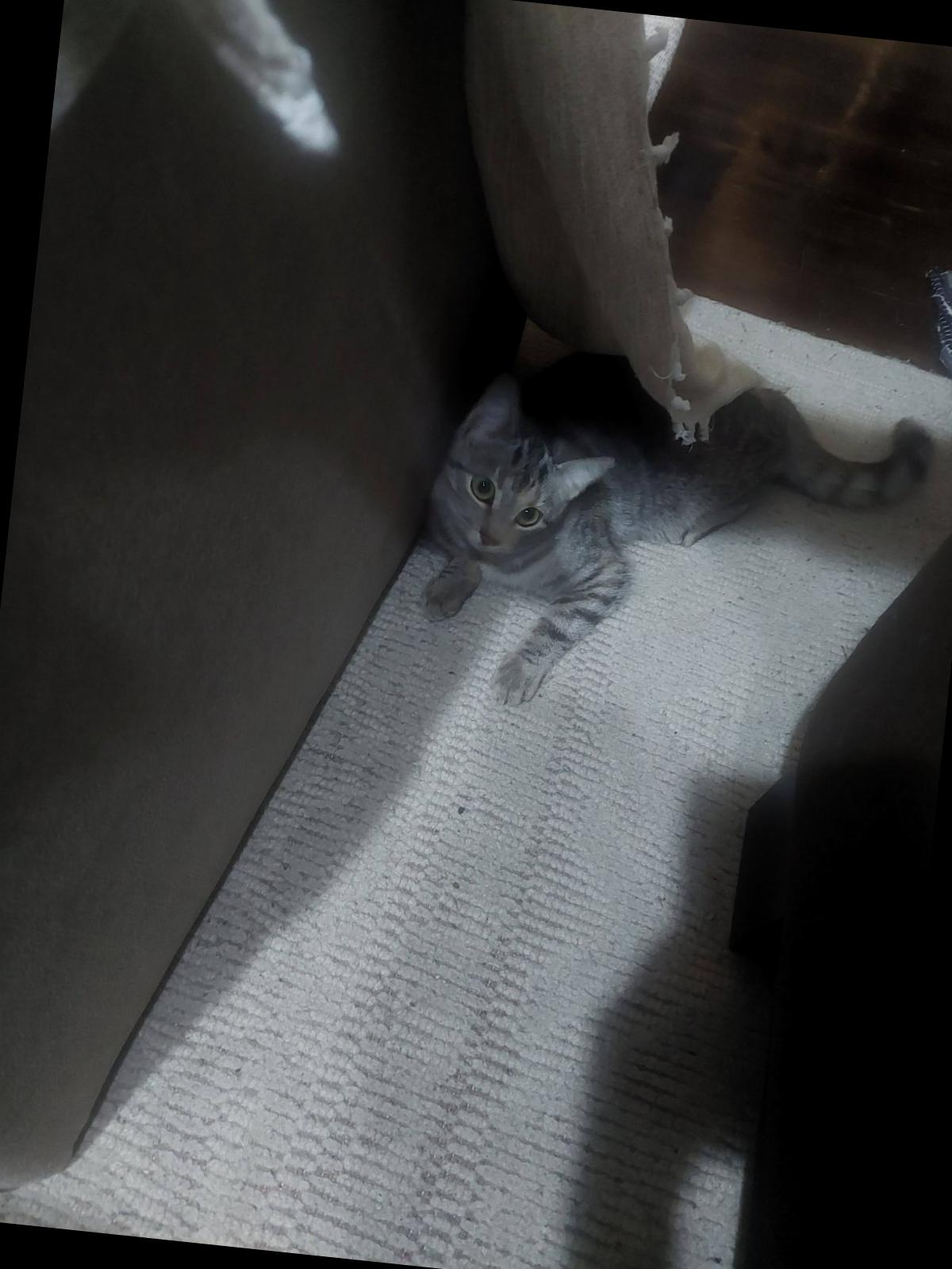macka: (401, 351, 942, 742)
